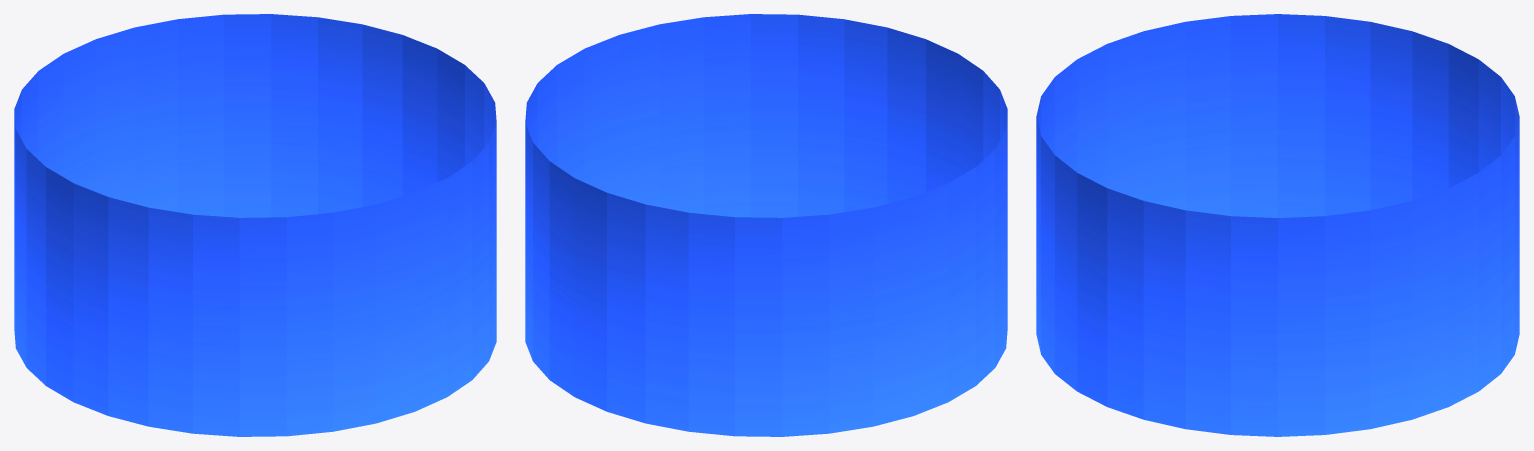
Rendered from lb_beam_5.glb.
3 renders of one model, left to right at view 1: azimuth 30°, elevation 25°; view 2: azimuth 150°, elevation 25°; view 3: azimuth 270°, elevation 25°, orthographic.
Visible parts, largest first — view 1: lb_beam_5; view 2: lb_beam_5; view 3: lb_beam_5.
Part boxes in pixels (x1=…): lb_beam_5: x1=14, y1=14, x2=496, y2=436; lb_beam_5: x1=525, y1=14, x2=1007, y2=436; lb_beam_5: x1=1036, y1=14, x2=1519, y2=436.
Size of the model in its own units: 2 by 1 by 2.
Materials: 1 (1 with a texture image).
